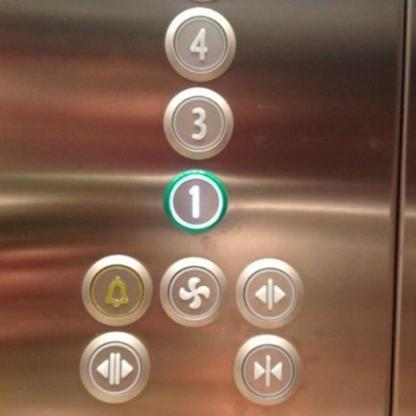1: (159, 165, 231, 235)
3: (161, 86, 236, 161)
4: (162, 5, 238, 84)
alarm: (80, 253, 152, 327)
close: (231, 332, 303, 407)
fan: (158, 253, 230, 329)
open: (78, 329, 153, 405), (232, 253, 304, 329)
